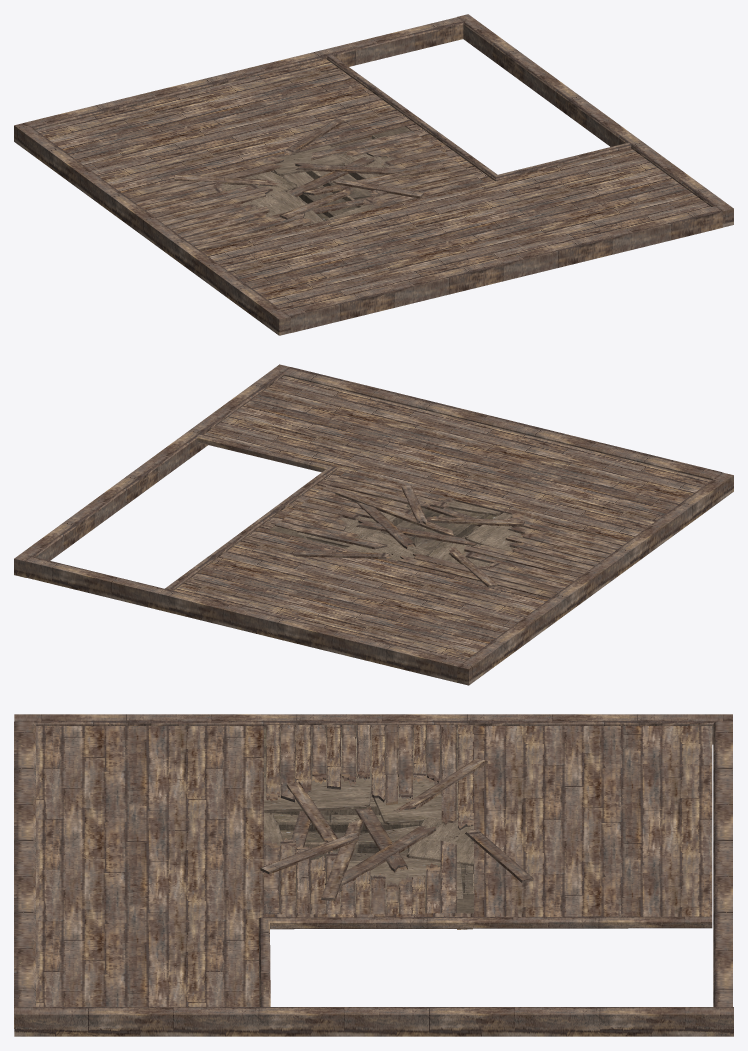
Rendered from SM_Asy_ShackFloor02.fbx.
3 renders of one model, top to bottom at view 1: azimuth 30°, elevation 25°; view 2: azimuth 150°, elevation 25°; view 3: azimuth 270°, elevation 25°, orthographic. The views are drawn at different scales.
Visible parts, largest first — view 1: SM_Asy_ShackFloor02.mo; view 2: SM_Asy_ShackFloor02.mo; view 3: SM_Asy_ShackFloor02.mo.
Boxes of the visible parts, left/top/right/bottom form: SM_Asy_ShackFloor02.mo: left=14, top=14, right=733, bottom=335; SM_Asy_ShackFloor02.mo: left=14, top=364, right=733, bottom=685; SM_Asy_ShackFloor02.mo: left=14, top=714, right=733, bottom=1036.
Size of the model in its own units: 1019 by 38.35 by 1032.
